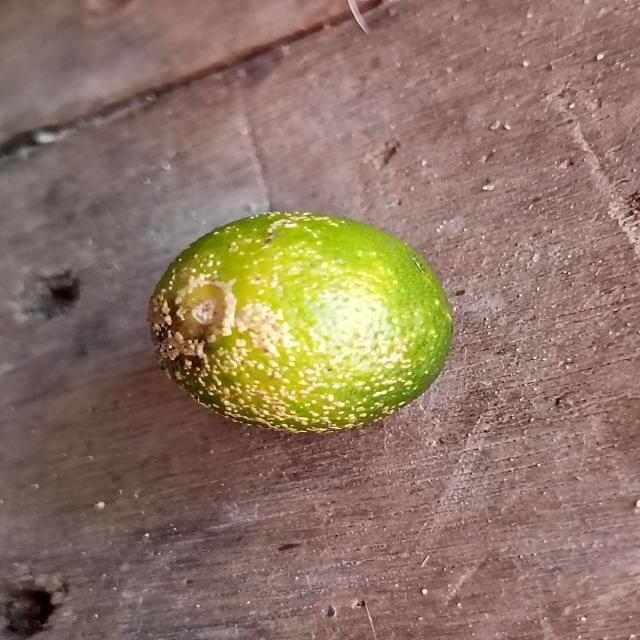scab: (147, 219, 430, 431)
